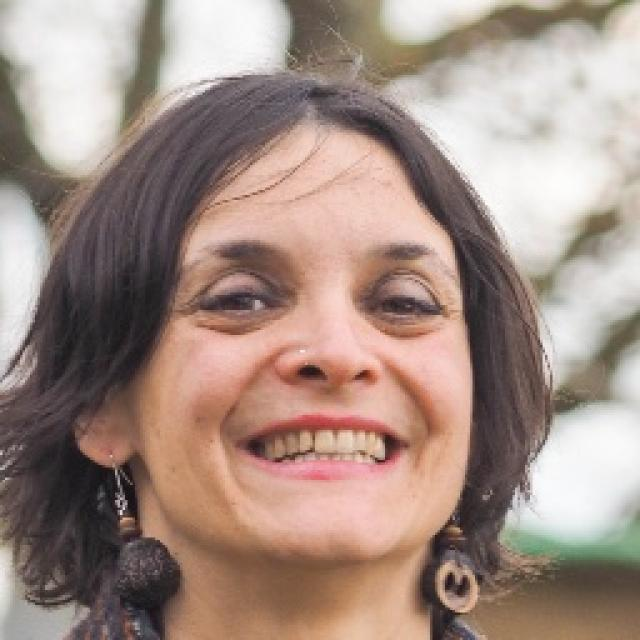earlobe: (75, 414, 136, 466)
eye: (372, 289, 442, 320), (203, 288, 276, 316)
nose: (275, 379, 386, 409)
